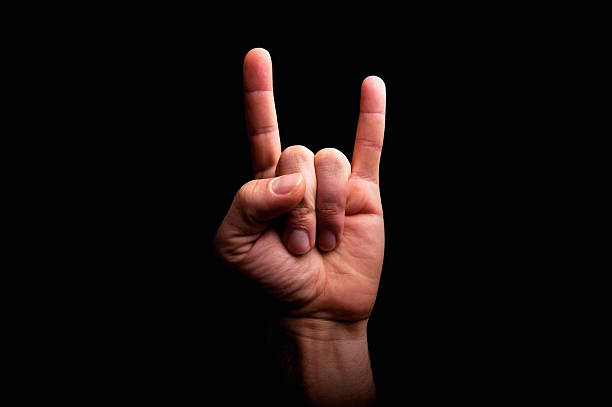Rock On: (211, 39, 429, 326)
